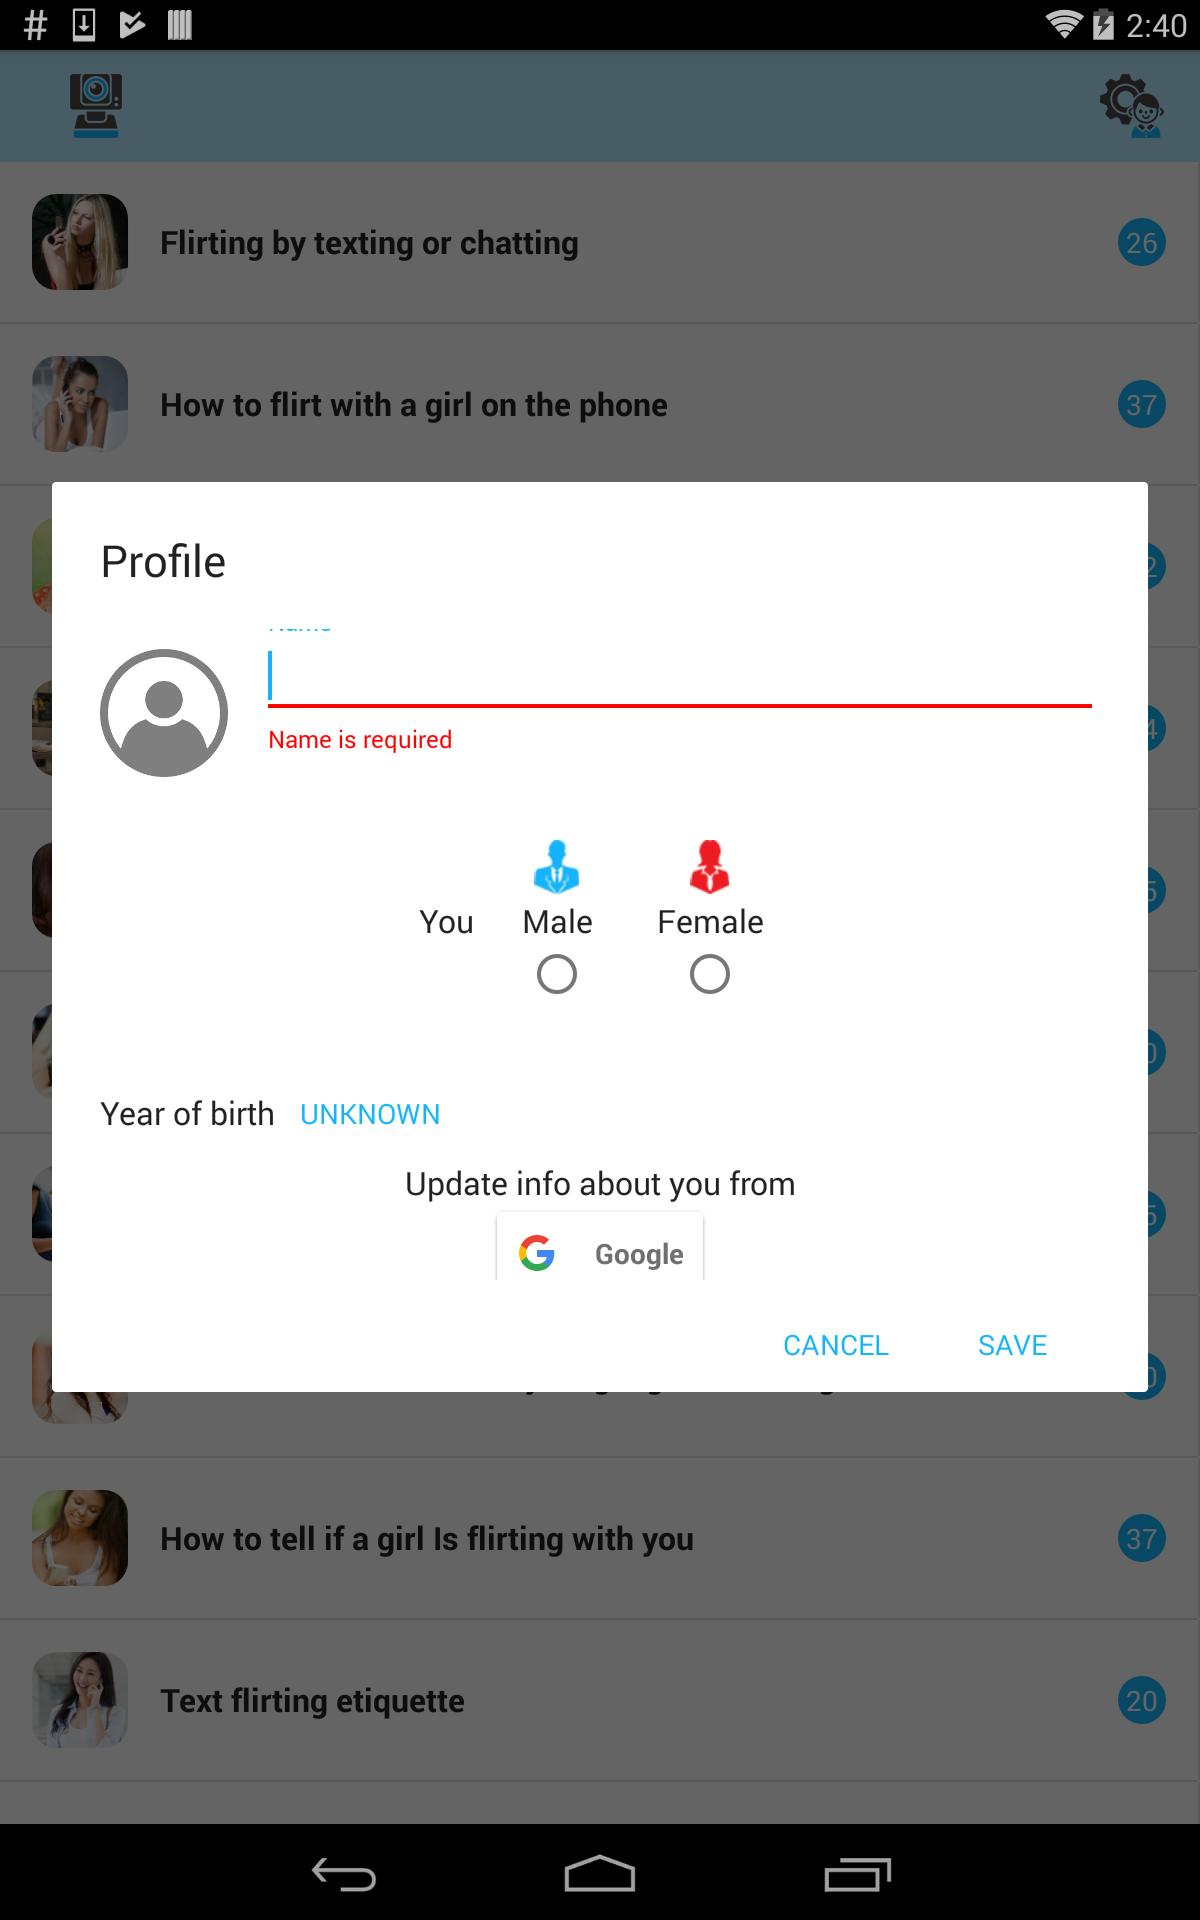android.widget.Button: (276, 1064, 1100, 1161), (489, 1204, 711, 1299), (924, 1297, 1100, 1392), (748, 1297, 924, 1392)
android.widget.EditText: (260, 630, 1100, 722)
android.widget.FrameLayout: (19, 451, 1181, 1424), (53, 482, 1147, 1392), (260, 630, 1100, 722), (489, 1204, 711, 1299)
android.widget.ImageView: (100, 650, 228, 777), (509, 818, 606, 915), (662, 818, 758, 915)
android.widget.LinearLayout: (53, 482, 1147, 1392), (260, 610, 1100, 777), (404, 777, 796, 1064), (260, 722, 1100, 777), (625, 835, 796, 1006), (489, 835, 625, 1006)
android.widget.RadioButton: (677, 941, 742, 1006), (525, 941, 589, 1006)
android.widget.RelativeLayout: (53, 482, 1147, 1392), (100, 629, 1100, 1280)
android.widget.ScrollView: (100, 629, 1100, 1392)
android.widget.TextView: (100, 529, 1100, 589), (100, 1064, 276, 1161), (404, 1161, 796, 1204), (625, 898, 796, 941), (268, 722, 453, 755), (489, 898, 625, 941), (419, 898, 474, 941)
